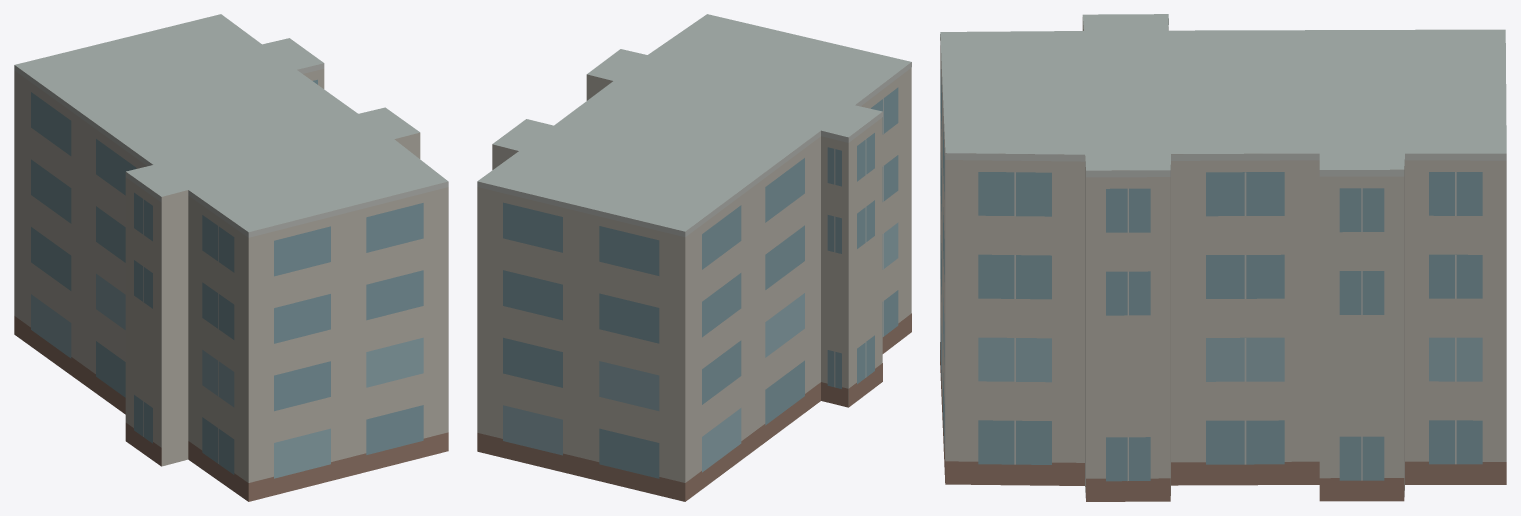
The model's file is survey-upis-32902288.glb.
The picture shows the model from 3 angles, left to right: view 1: azimuth 30°, elevation 25°; view 2: azimuth 150°, elevation 25°; view 3: azimuth 270°, elevation 25°; orthographic projection. The views are drawn at different scales.
Visible parts, largest first — view 1: survey-upis-32902288.tmp; view 2: survey-upis-32902288.tmp; view 3: survey-upis-32902288.tmp.
Part boxes in pixels (bbox=[...]): survey-upis-32902288.tmp: bbox=[14, 14, 448, 501]; survey-upis-32902288.tmp: bbox=[477, 14, 911, 501]; survey-upis-32902288.tmp: bbox=[940, 14, 1506, 501].
Size of the model in its own units: 11.97 by 11.8 by 18.3.
